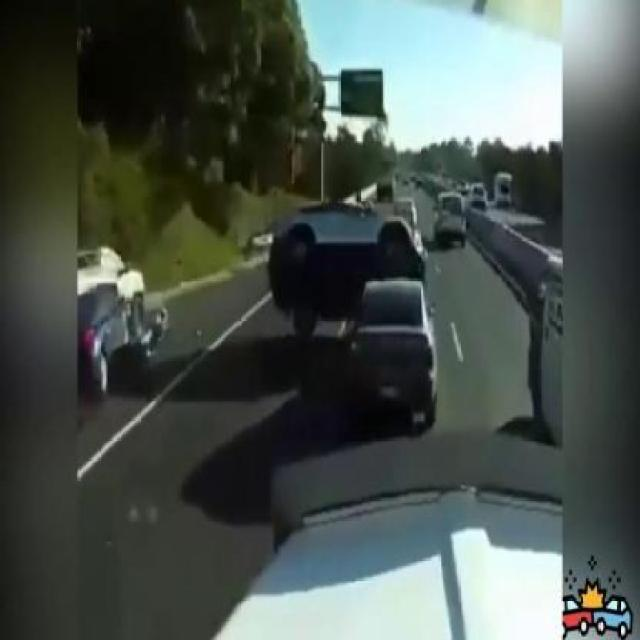accident: (266, 194, 444, 400)
